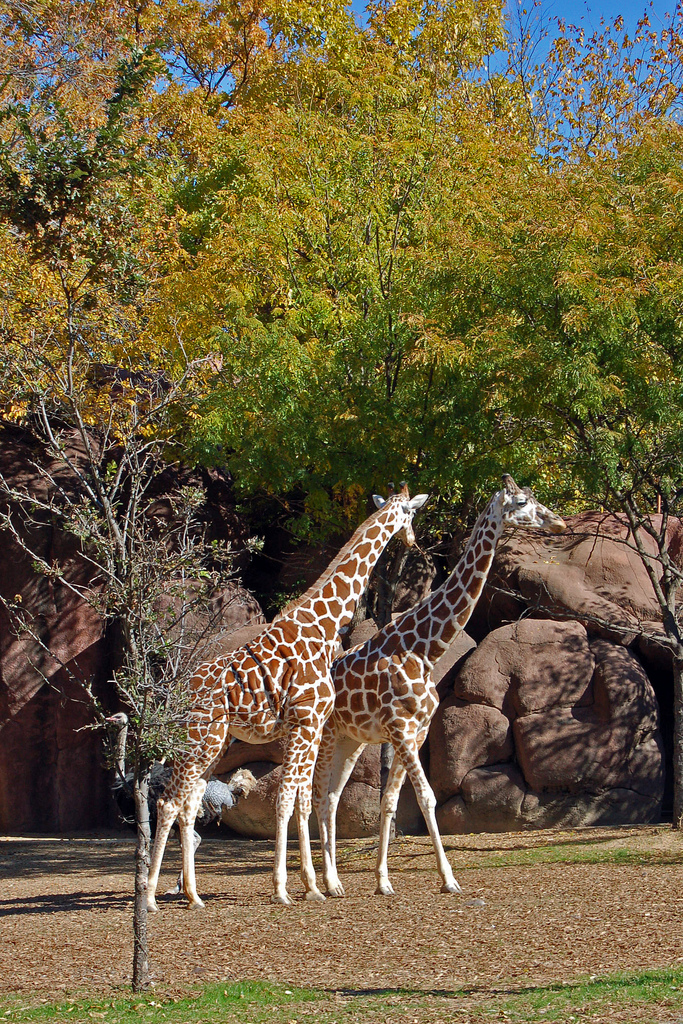giraffe: (132, 474, 439, 838), (319, 486, 577, 911)
